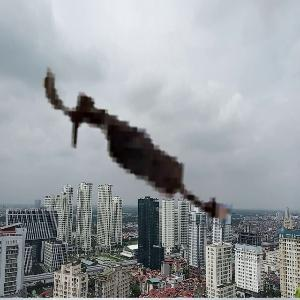drone: (19, 31, 279, 291)
